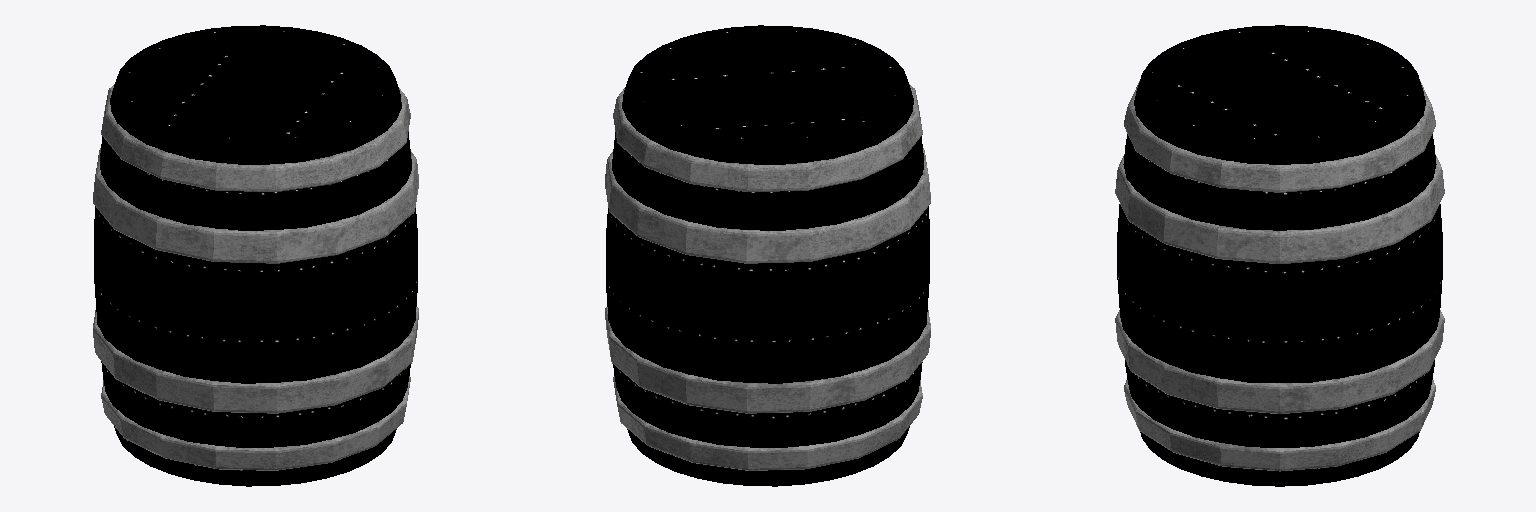
The picture shows the model from 3 angles: view 1: azimuth 30°, elevation 25°; view 2: azimuth 150°, elevation 25°; view 3: azimuth 270°, elevation 25°; orthographic projection.
Parts seen in each view (by area): view 1: prop_barrel; view 2: prop_barrel; view 3: prop_barrel.
Part boxes in pixels (left/top/right/bottom): prop_barrel: left=93, top=25, right=418, bottom=486; prop_barrel: left=605, top=25, right=930, bottom=486; prop_barrel: left=1115, top=25, right=1444, bottom=486.
Bounding box in the file's own units: 2.76 × 3.17 × 2.76.
Materials: 1 (1 with a texture image).